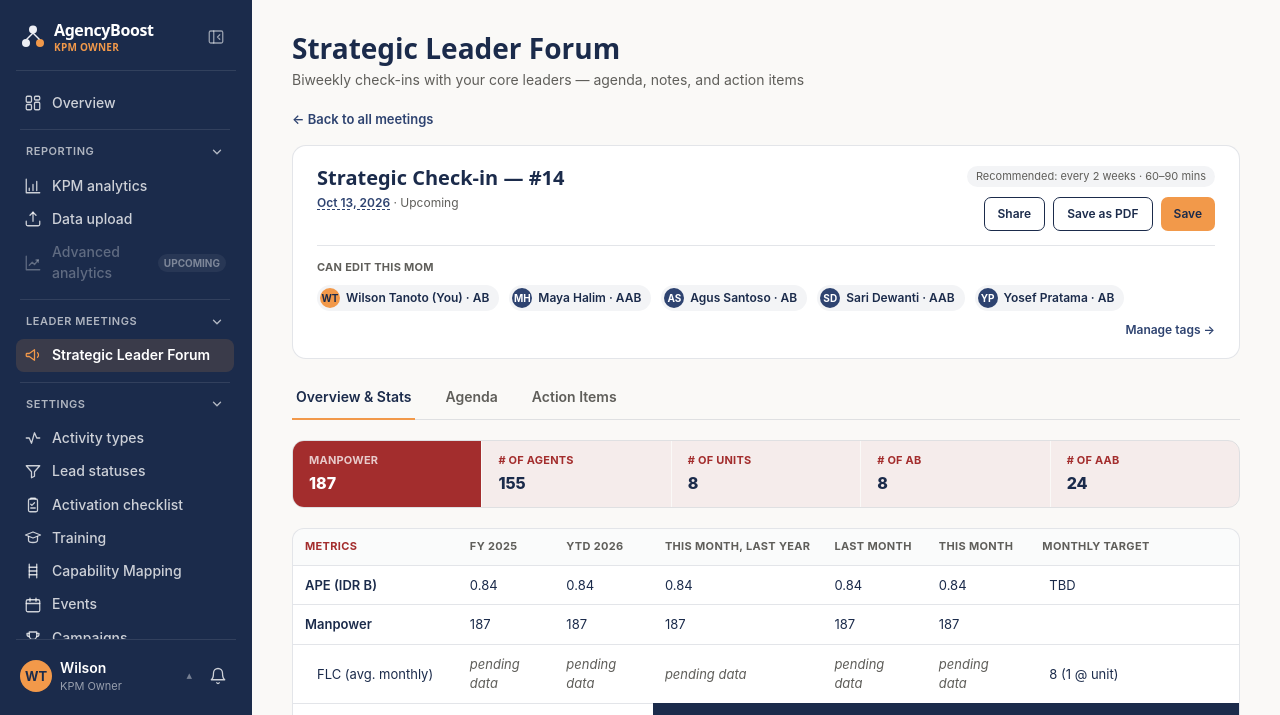
Test case: /leader-meetings/[meetingId] — a meeting (P18.1-T2, P18.1-T3) › the meeting dialog (OD-145, I-254) › P18.1-T2 AC-9: a move refused once the meeting has taken place says so under the date
Click the button with aria-label "Change the date of" at (354, 202), box [317,194,390,211]
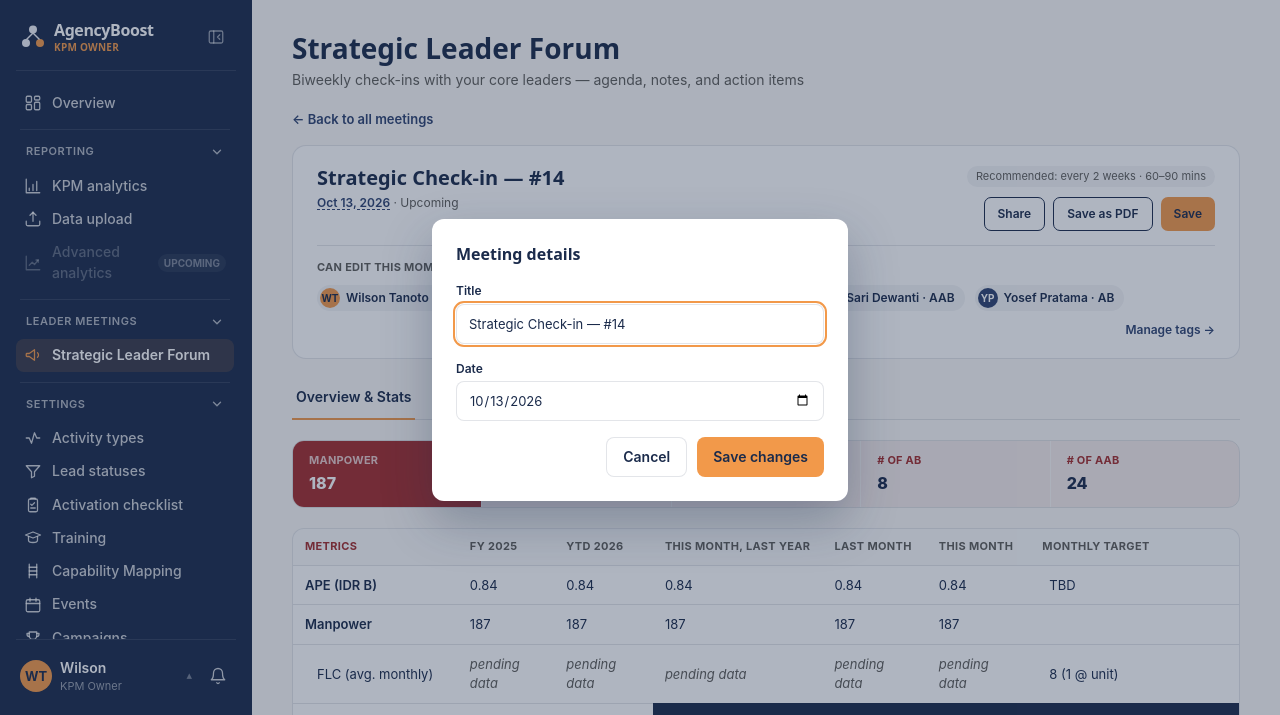
Type "2026-10-20" into the date field labelled "Date" at (640, 401), box [456,381,824,421]
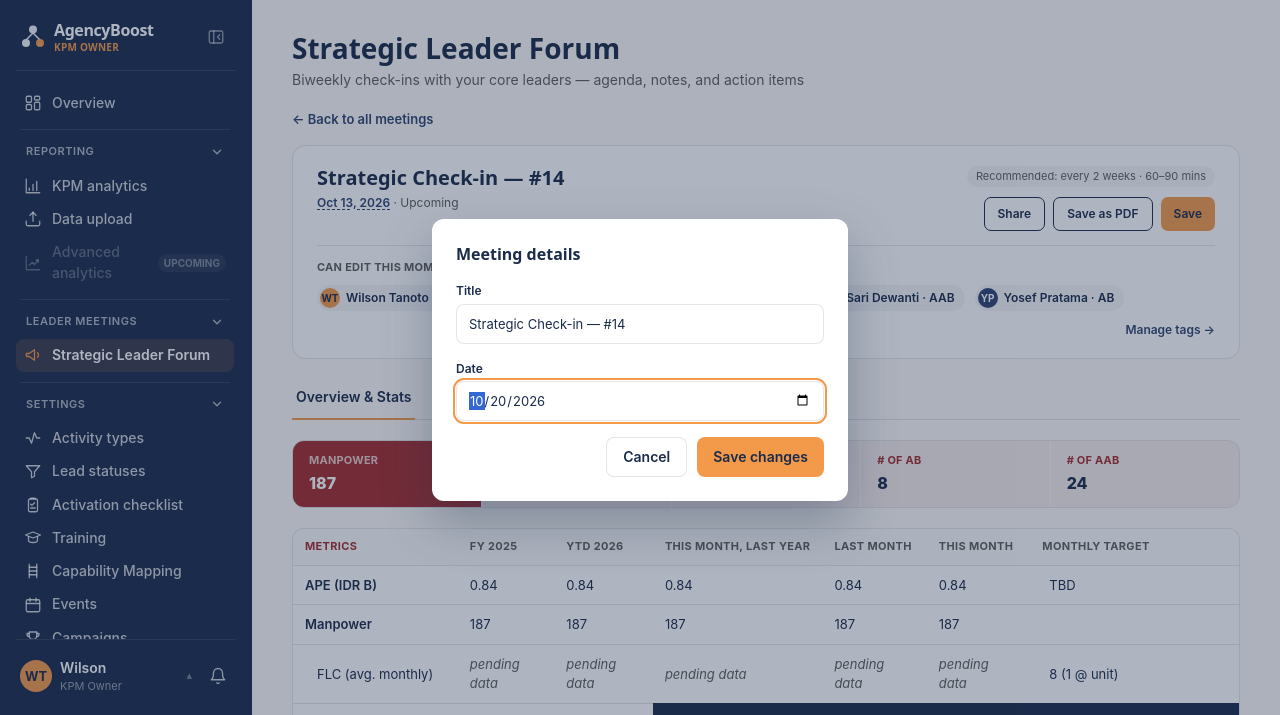
Click the button "Save changes" at (761, 457), box [697,437,824,477]
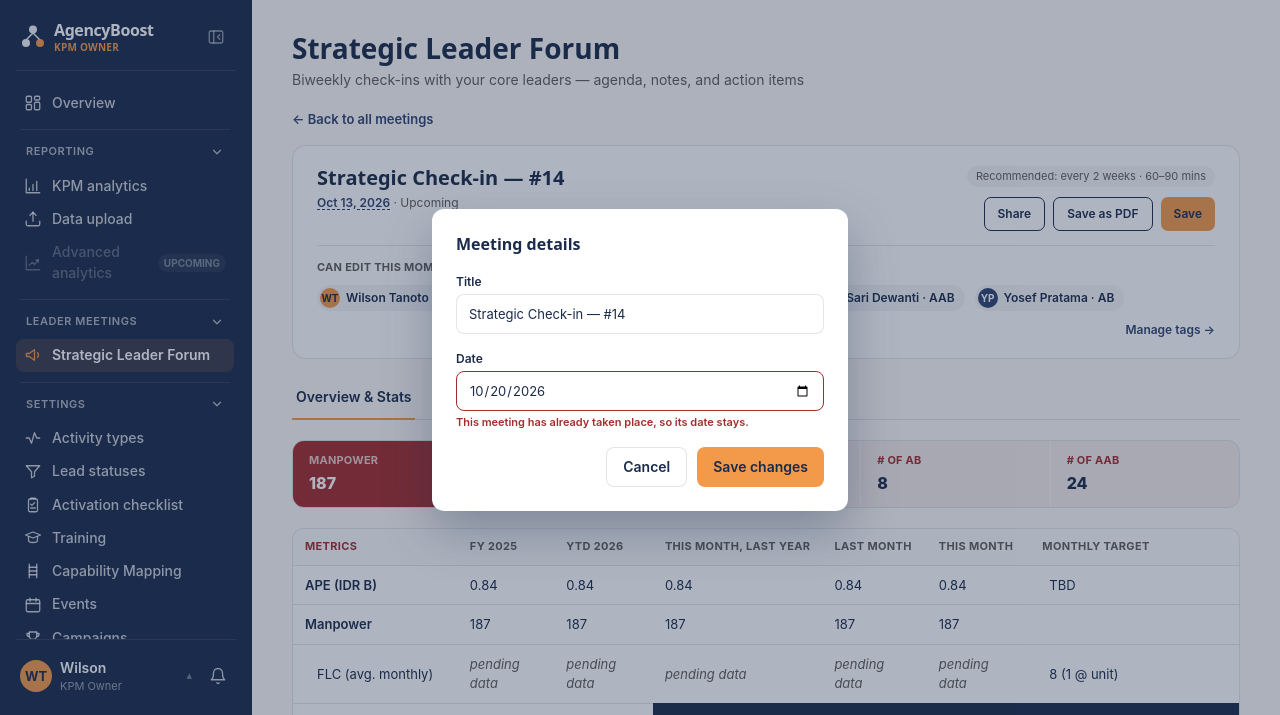
Now the text "This meeting has already taken place, so its date stays." is shown, box [456,415,749,429]
